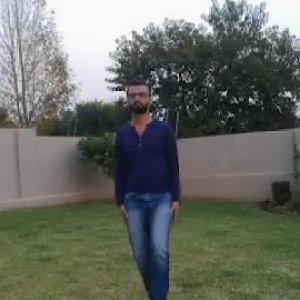follow: (112, 69, 187, 299)
